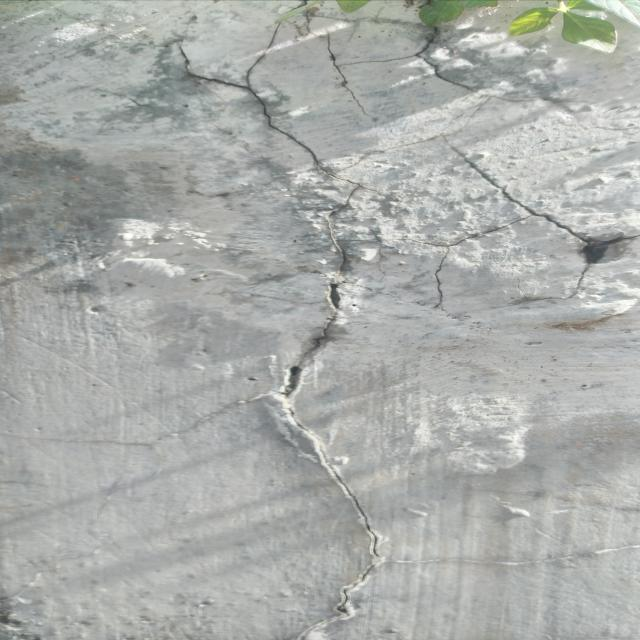Crack: (144, 0, 391, 638)
